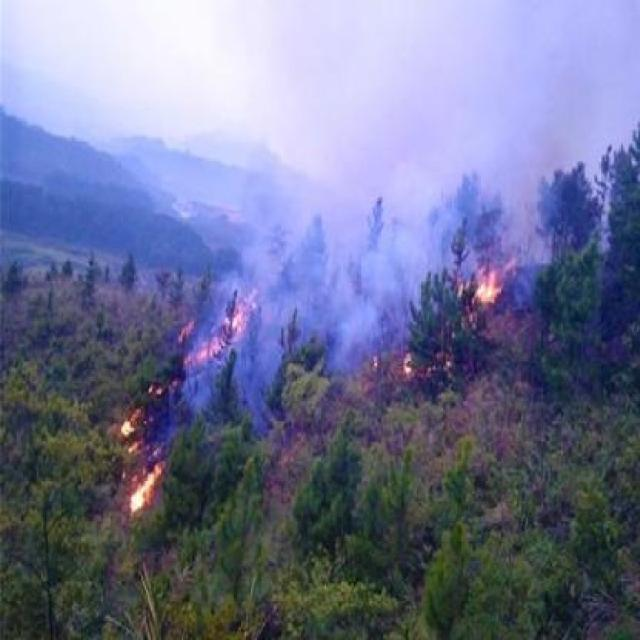Fire: (114, 399, 168, 519), (168, 285, 247, 360), (452, 260, 526, 314), (387, 347, 464, 383)
Smoke: (262, 181, 380, 378), (378, 141, 448, 333), (187, 368, 270, 446)
